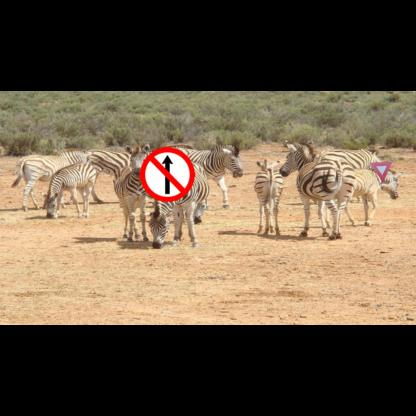R-3: (140, 147, 195, 202)
